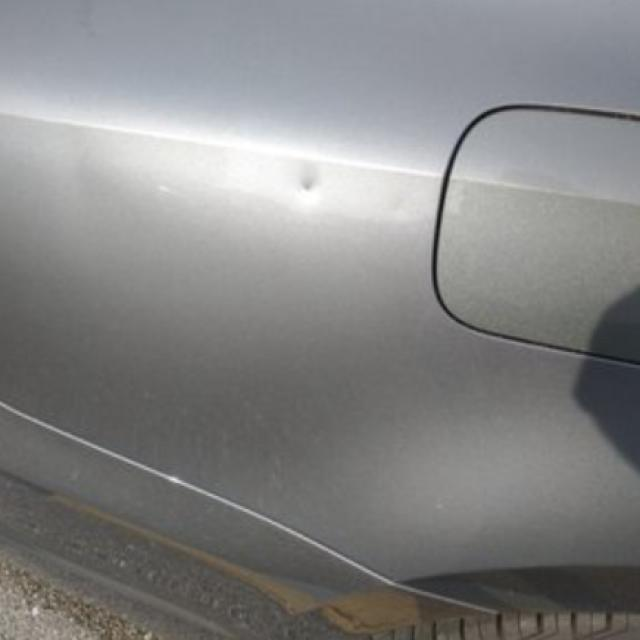dents: (282, 150, 344, 222)
